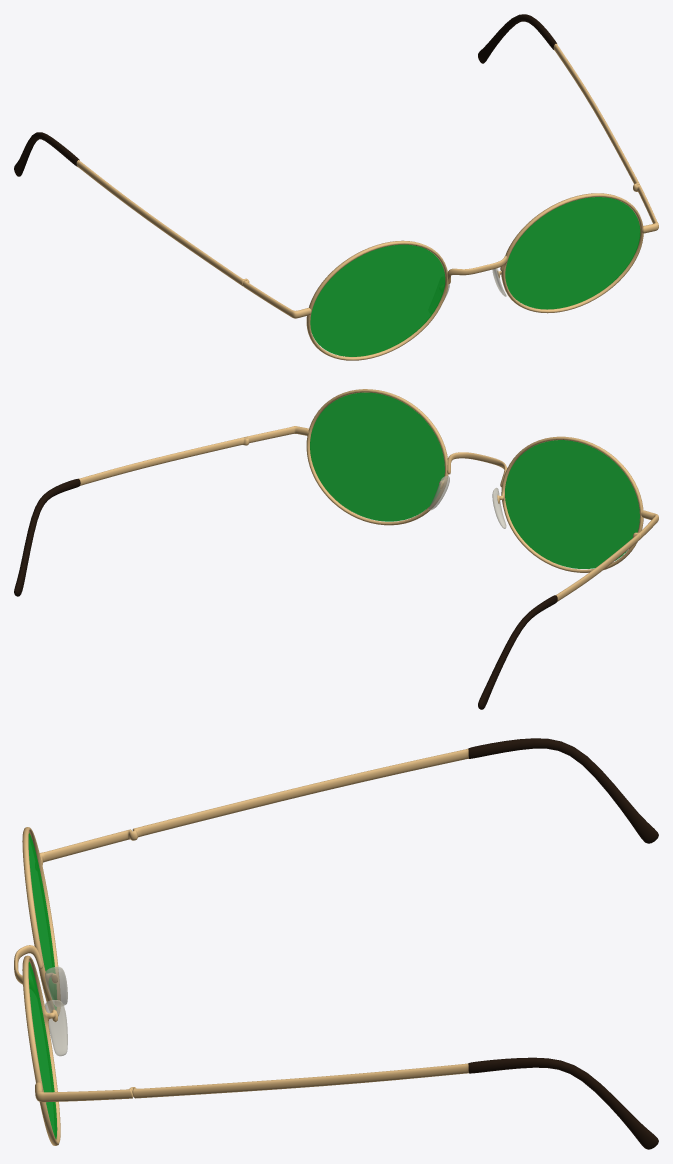
Rendered from glasses_round2.glb.
The picture shows the model from 3 angles, top to bottom: view 1: azimuth 30°, elevation 25°; view 2: azimuth 150°, elevation 25°; view 3: azimuth 270°, elevation 25°; orthographic projection. The views are drawn at different scales.
Visible parts, largest first — view 1: Cylinder.005, Cube.005, Cylinder.004; view 2: Cylinder.005, Cube.005, Cylinder.004, Cylinder.006; view 3: Cube.005, Cylinder.004, Cylinder.005, Cylinder.006.
Part boxes in pixels (<box>): Cylinder.005: <box>310,197,640,356</box>; Cube.005: <box>14,14,658,318</box>; Cylinder.004: <box>306,193,643,360</box>; Cylinder.005: <box>310,392,639,568</box>; Cube.005: <box>14,426,658,709</box>; Cylinder.004: <box>306,389,643,572</box>; Cylinder.006: <box>428,476,506,528</box>; Cube.005: <box>14,738,658,1149</box>; Cylinder.004: <box>22,827,60,1145</box>; Cylinder.005: <box>28,833,57,1139</box>; Cylinder.006: <box>45,966,67,1056</box>.
Bounding box in the file's own units: 4.4 × 1.09 × 3.72.
